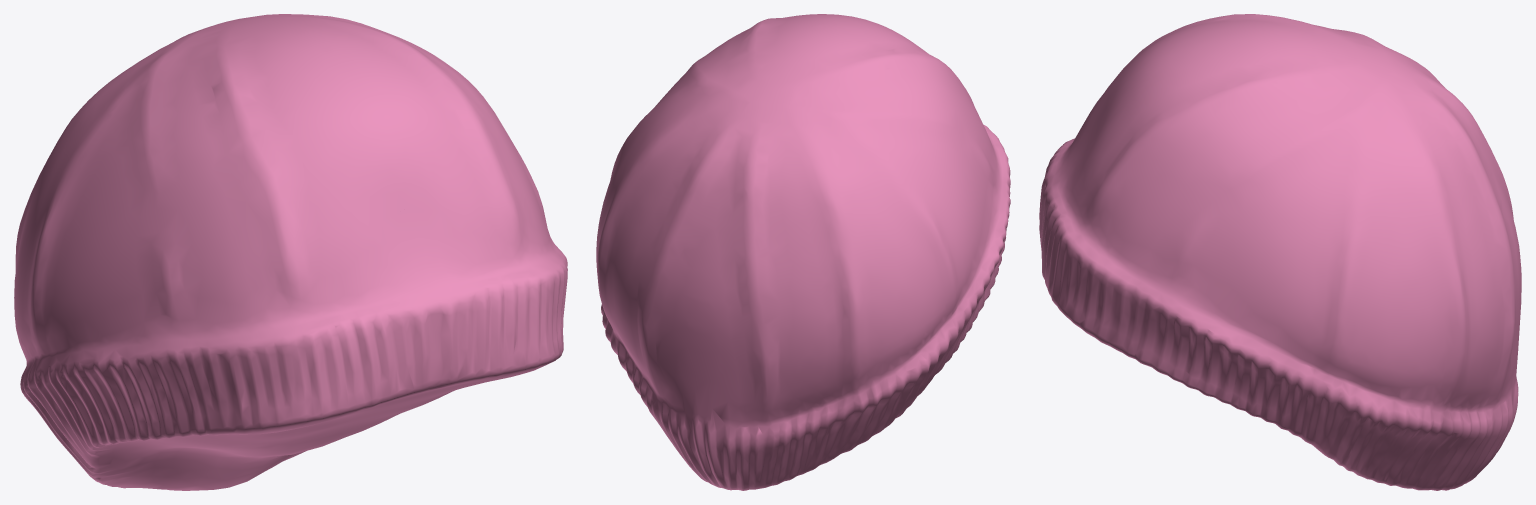
The model's file is unknown hat style female version.fbx.
3 renders of one model, left to right at view 1: azimuth 30°, elevation 25°; view 2: azimuth 150°, elevation 25°; view 3: azimuth 270°, elevation 25°, orthographic. The views are drawn at different scales.
Parts seen in each view (by area): view 1: Cube.001; view 2: Cube.001; view 3: Cube.001.
Part boxes in pixels (left/top/right/bottom): Cube.001: left=14, top=14, right=567, bottom=490; Cube.001: left=596, top=14, right=1010, bottom=490; Cube.001: left=1039, top=14, right=1521, bottom=490.
Bounding box in the file's own units: 21.43 × 22.87 × 22.72.
